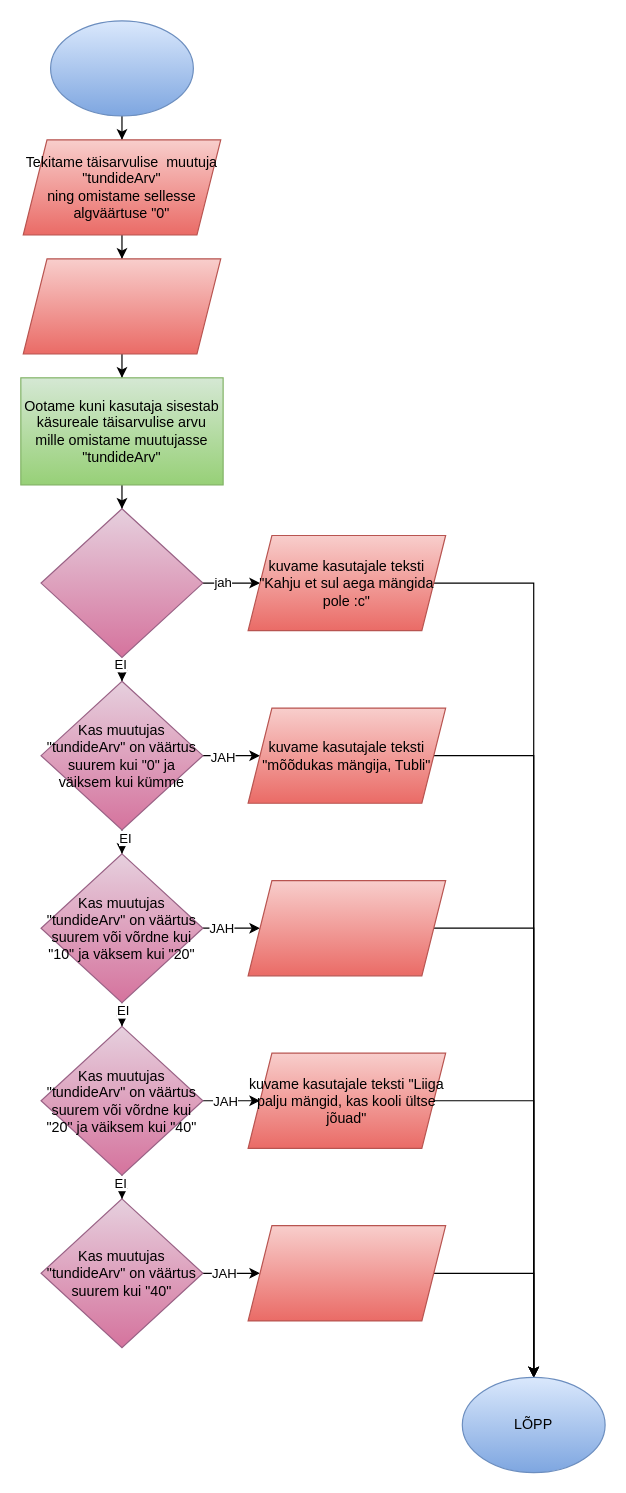
Some shapes in this 626 by 1493 pixel diagram are drawn without their labels. The shapes that lost their labels are listed below. From the top down, each one's centre as x and y in pixels, then its label:
point 121,68: ALGUS
point 121,306: kuvame kasutajale teksti "Mitu tundi mängisid see nädal ?(täisarvuna)"
point 121,582: Kas muutujas "tundideArv" on väärtus 0
point 346,927: kuvame kasutajale teksti "natukene paljuks läheb, kodutööd kannatavad"
point 346,1273: kuvame kasutajale teksti "siin peaks juba sekkuma psühholoog"
